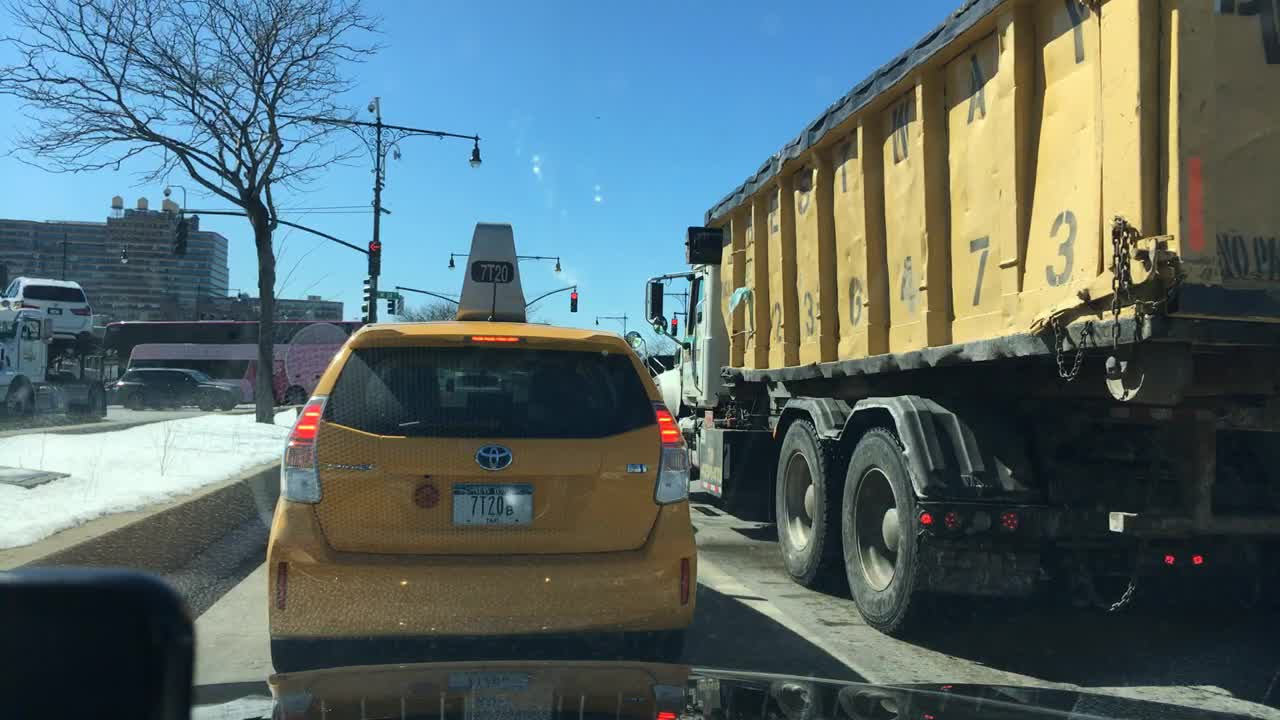bus: (98, 314, 367, 410)
car: (264, 217, 698, 684), (0, 272, 102, 347), (107, 366, 246, 411)
traffic light: (172, 215, 190, 258), (359, 278, 372, 323), (367, 237, 380, 275), (569, 287, 581, 323), (670, 315, 678, 336), (387, 297, 396, 315)
traffic sign: (378, 290, 400, 298)
truck: (640, 0, 1278, 641), (0, 275, 109, 422)
